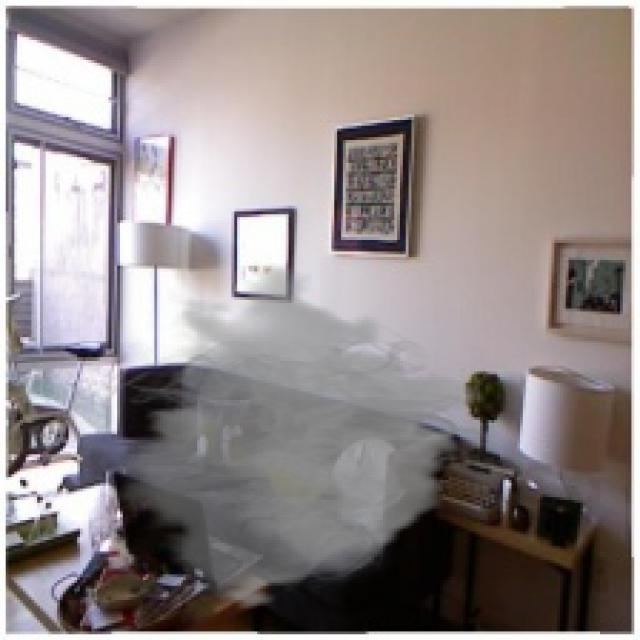smoke: (83, 263, 497, 611)
